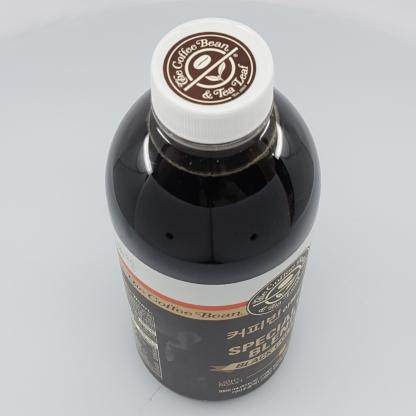--------: (105, 17, 322, 401)
